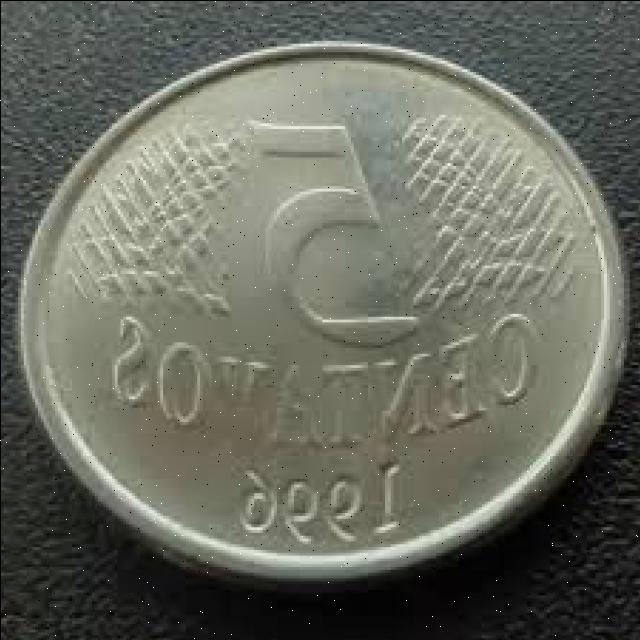5 cent: (23, 46, 615, 566)
